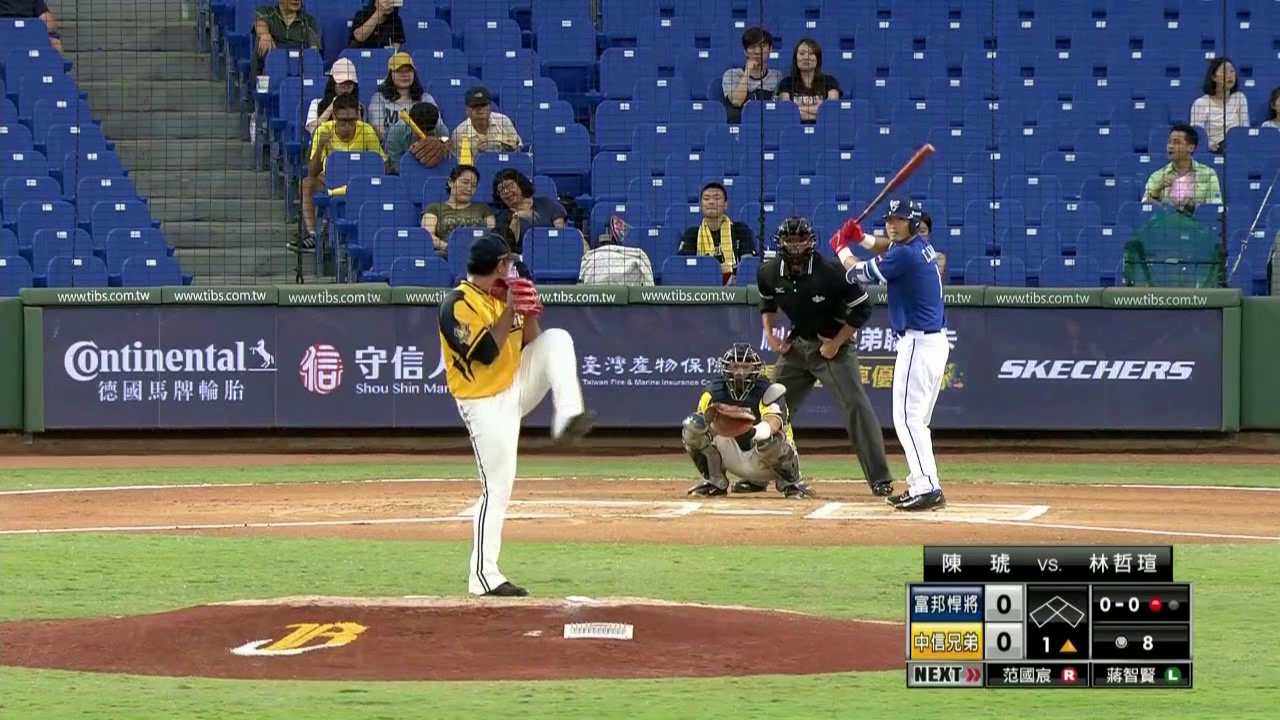base: (1027, 582, 1090, 631)
bat: (853, 145, 931, 220)
out: (1144, 593, 1182, 615)
score1: (986, 586, 1018, 619)
score2: (991, 624, 1015, 659)
session: (1031, 631, 1083, 660)
strikeball: (1092, 587, 1143, 621)
total: (1110, 630, 1159, 654)
